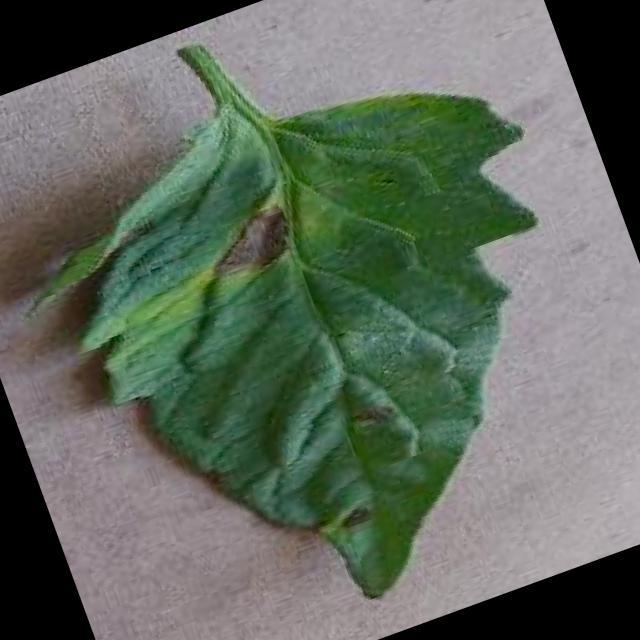Tomato Early blight leaf: (11, 17, 640, 640)
